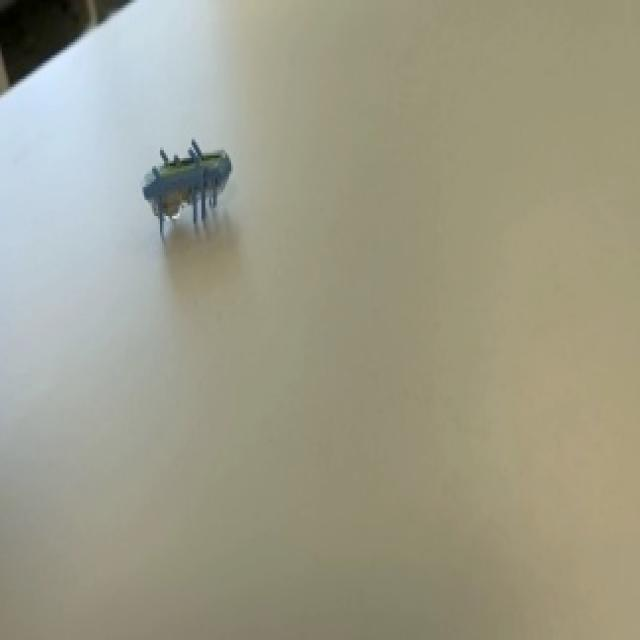3_NanoBug_Celeste: (125, 101, 246, 262)
